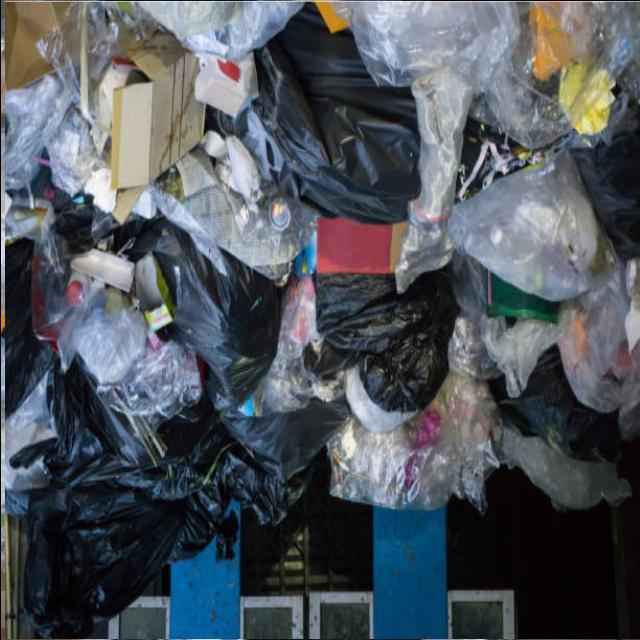Trashbag: (245, 22, 463, 221), (21, 484, 198, 637), (147, 230, 282, 396), (318, 264, 446, 406), (34, 357, 138, 493), (217, 369, 343, 473), (506, 360, 617, 470), (570, 127, 640, 256)
